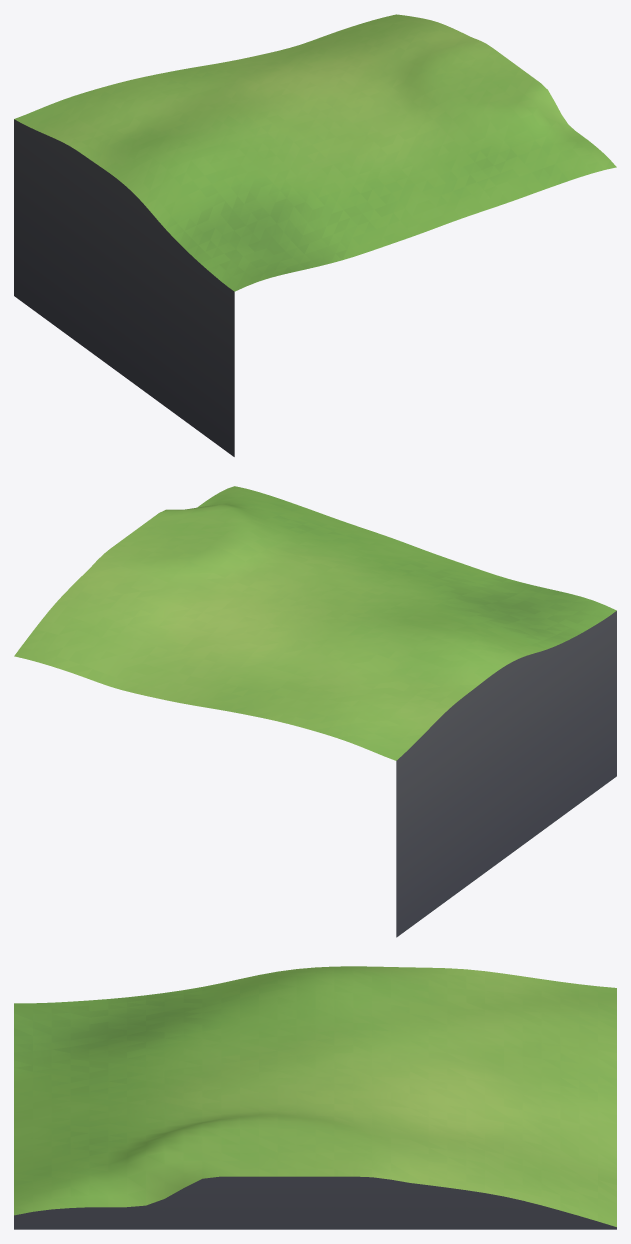
The model's file is terrain_r4_c0.glb.
3 renders of one model, top to bottom at view 1: azimuth 30°, elevation 25°; view 2: azimuth 150°, elevation 25°; view 3: azimuth 270°, elevation 25°, orthographic. The views are drawn at different scales.
Visible parts, largest first — view 1: terrain_r4_c0; view 2: terrain_r4_c0; view 3: terrain_r4_c0.
Boxes of the visible parts, box(x1,y1,x2,y2) form: terrain_r4_c0: box(14, 14, 616, 456); terrain_r4_c0: box(14, 486, 616, 937); terrain_r4_c0: box(14, 966, 616, 1229).
Size of the model in its own units: 128 by 72.12 by 128.
1 material, 1 textured.
